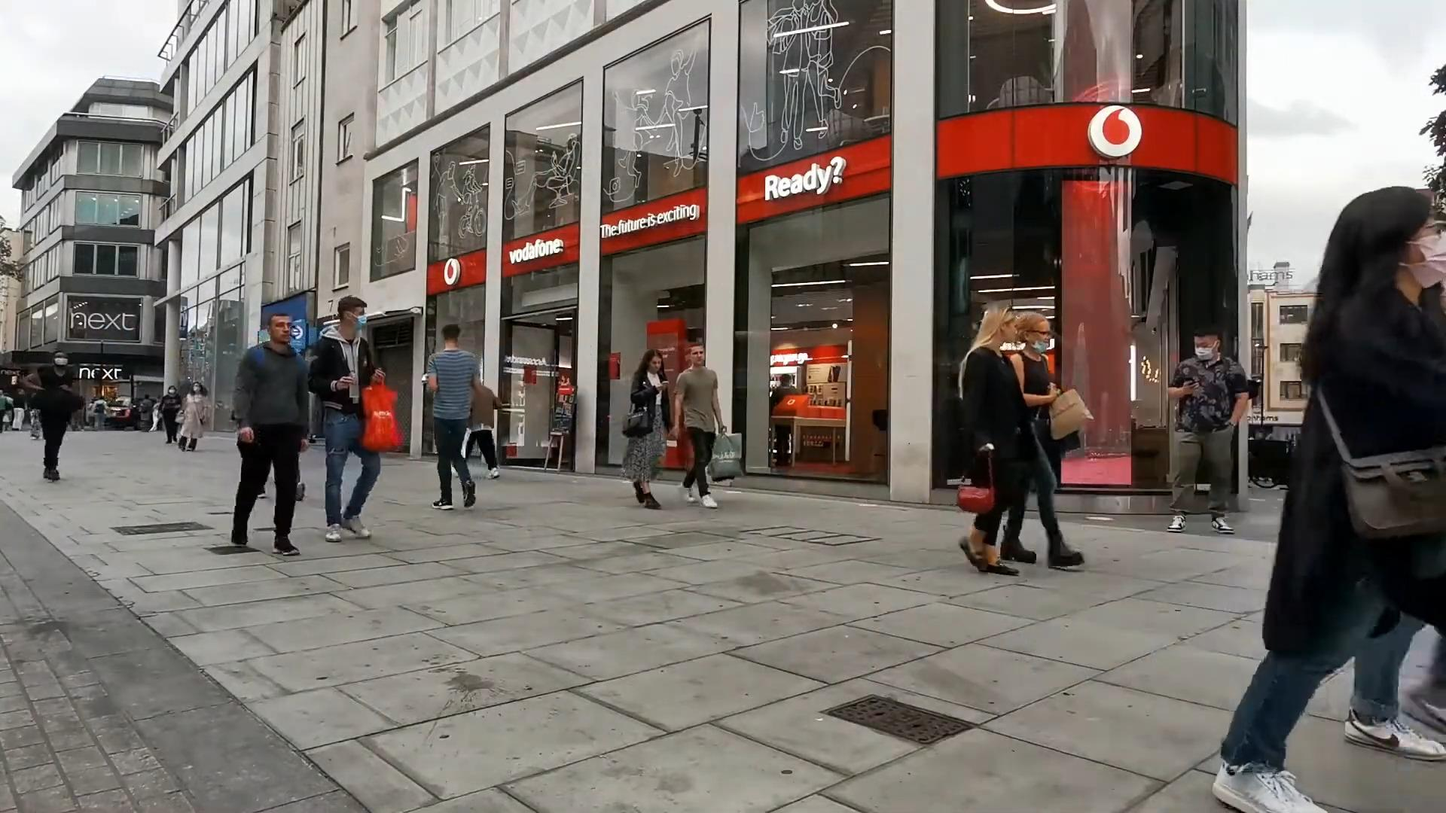no-helmet: (1319, 186, 1446, 291), (1017, 310, 1051, 355), (981, 305, 1017, 344), (338, 294, 367, 331), (1193, 326, 1221, 361), (267, 312, 292, 344), (642, 349, 664, 373), (442, 324, 461, 344), (688, 342, 705, 364), (53, 351, 68, 367), (191, 381, 206, 395), (168, 385, 177, 395)
